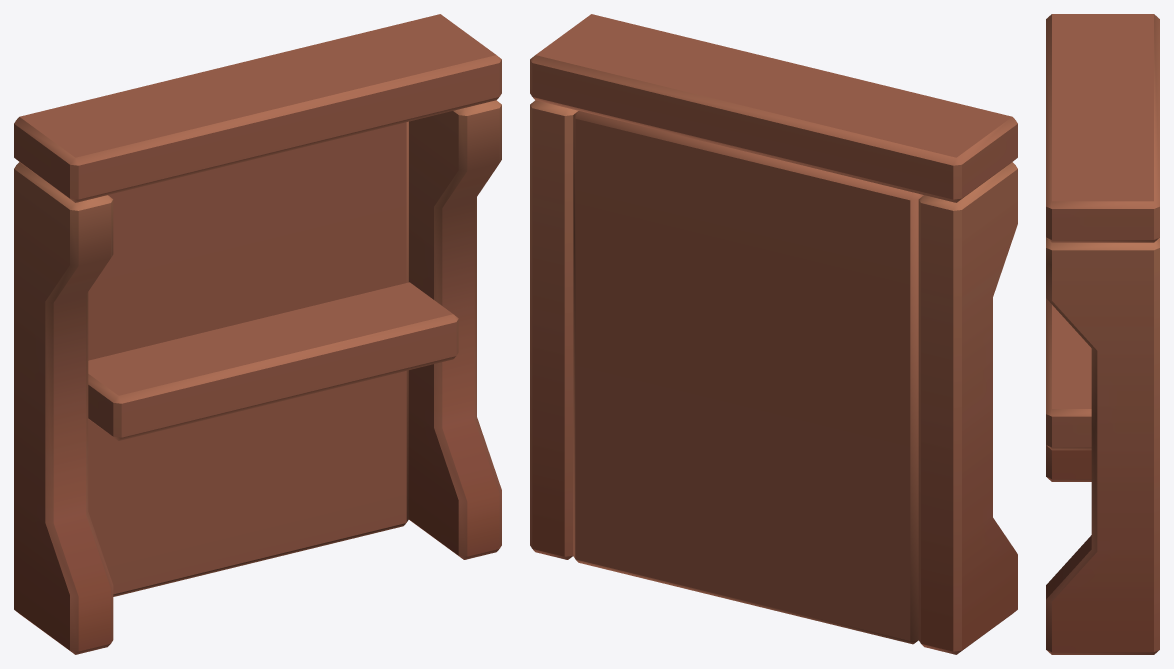
The model's file is bartop_a_medium.glb.
3 views of the same model, side by side, from view 1: azimuth 30°, elevation 25°; view 2: azimuth 150°, elevation 25°; view 3: azimuth 270°, elevation 25° (orthographic). The views are drawn at different scales.
Parts seen in each view (by area): view 1: bartop_A_medium; view 2: bartop_A_medium; view 3: bartop_A_medium.
Boxes of the visible parts, box(x1,y1,x2,y2) form: bartop_A_medium: box(14, 14, 501, 654); bartop_A_medium: box(530, 14, 1017, 654); bartop_A_medium: box(1046, 14, 1159, 654).
Size of the model in its own units: 2 by 2.2 by 0.5001.
Materials: 1 (1 with a texture image).
